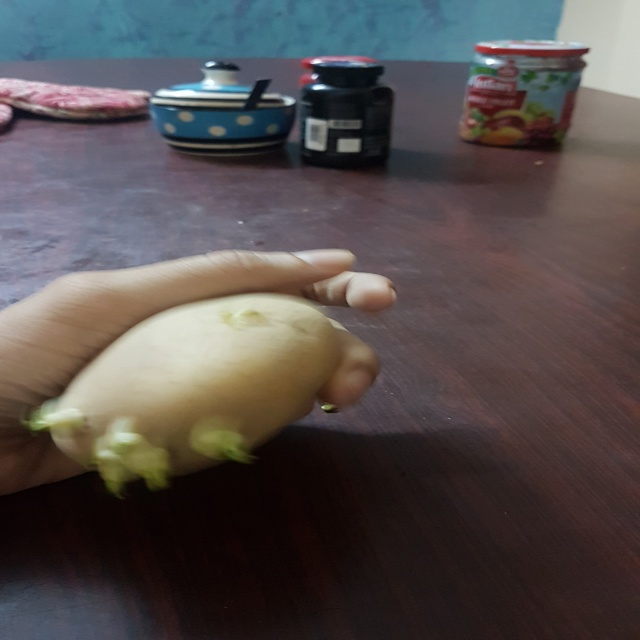potato: (35, 286, 348, 490)
